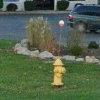a fire hydrant: (52, 57, 67, 88)
